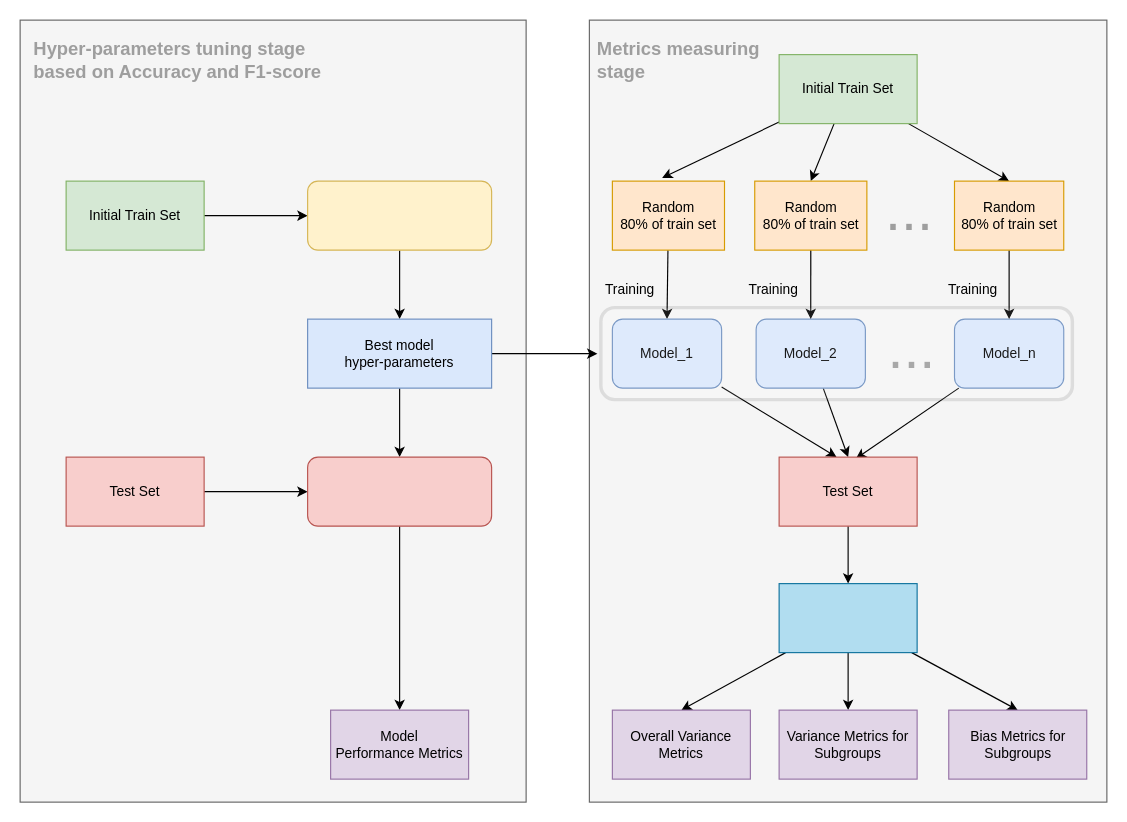
This 1127x822 diagram has some shape labels left out. Each missing label, with the box of its shape:
Evaluation: (306, 456, 492, 526)
Hyper-parameters tuning based on train and CV sets: (306, 180, 492, 250)
Models Predictions: (778, 582, 917, 653)
